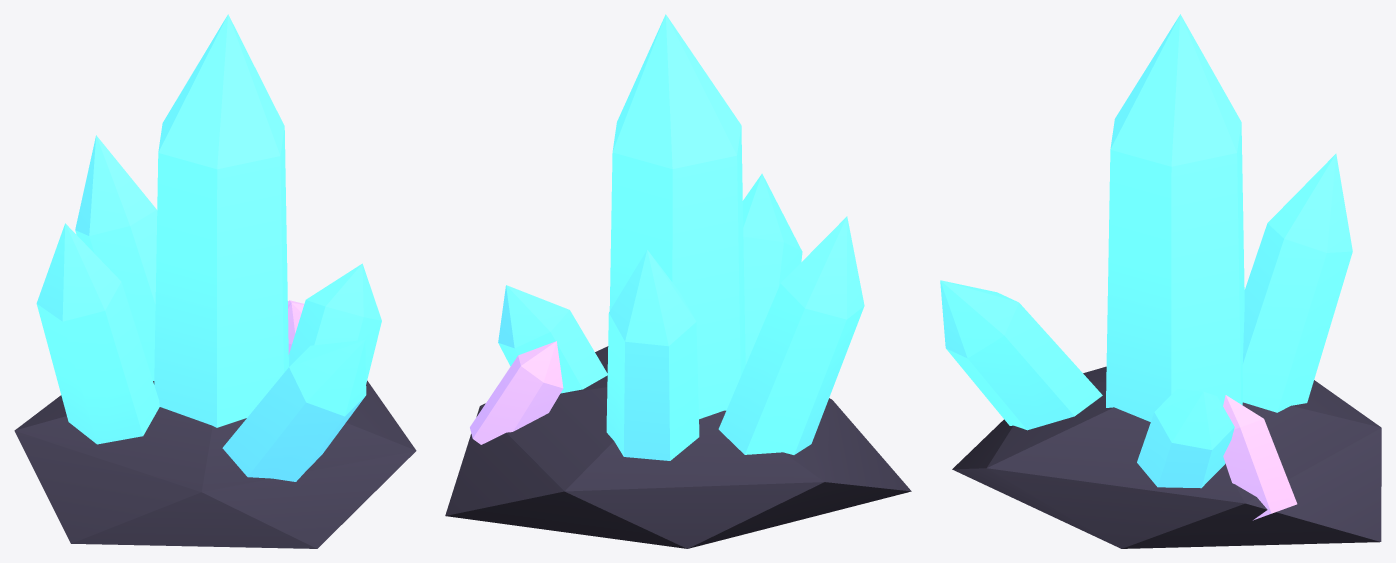
Rendered from wild_crystal.glb.
The picture shows the model from 3 angles, left to right: view 1: azimuth 30°, elevation 25°; view 2: azimuth 150°, elevation 25°; view 3: azimuth 270°, elevation 25°; orthographic projection. The views are drawn at different scales.
Visible parts, largest first — view 1: t0_crystal, t0_rock, t0_crystal_violet; view 2: t0_crystal, t0_rock, t0_crystal_violet; view 3: t0_crystal, t0_rock, t0_crystal_violet.
Boxes of the visible parts, x1,y1,x2,y2 form: t0_crystal: [36, 14, 381, 481]; t0_rock: [14, 380, 416, 548]; t0_crystal_violet: [288, 300, 304, 354]; t0_crystal: [498, 14, 864, 460]; t0_rock: [445, 346, 911, 548]; t0_crystal_violet: [470, 341, 563, 444]; t0_crystal: [940, 14, 1352, 488]; t0_rock: [952, 366, 1381, 548]; t0_crystal_violet: [1223, 395, 1297, 520].
Bounding box in the file's own units: 0.5265 × 0.6659 × 0.5543.
